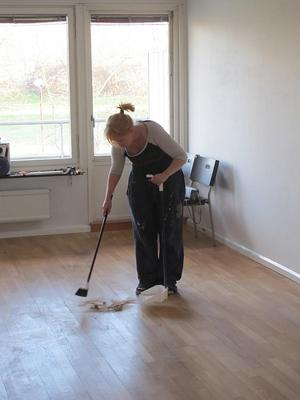person: (102, 102, 189, 297)
